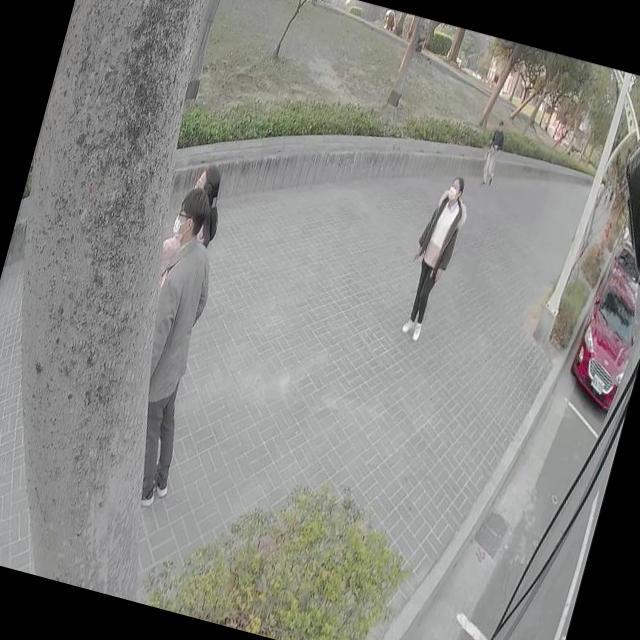person: (102, 176, 242, 510), (393, 168, 474, 342), (478, 118, 508, 184), (194, 161, 224, 198)
